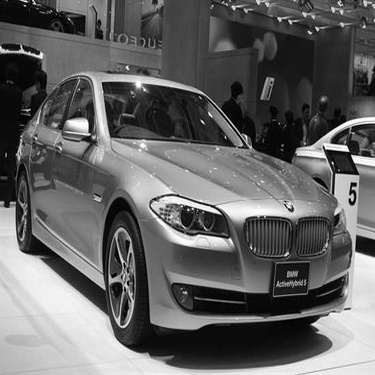car: (13, 65, 354, 353), (284, 109, 374, 255), (5, 19, 102, 45), (6, 77, 17, 188), (1, 20, 48, 31)
